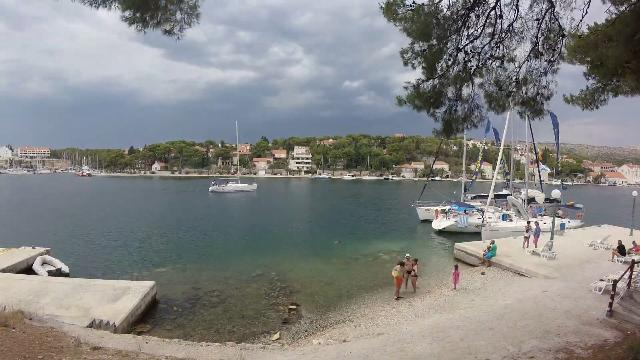Sailboat: (203, 175, 265, 195)
